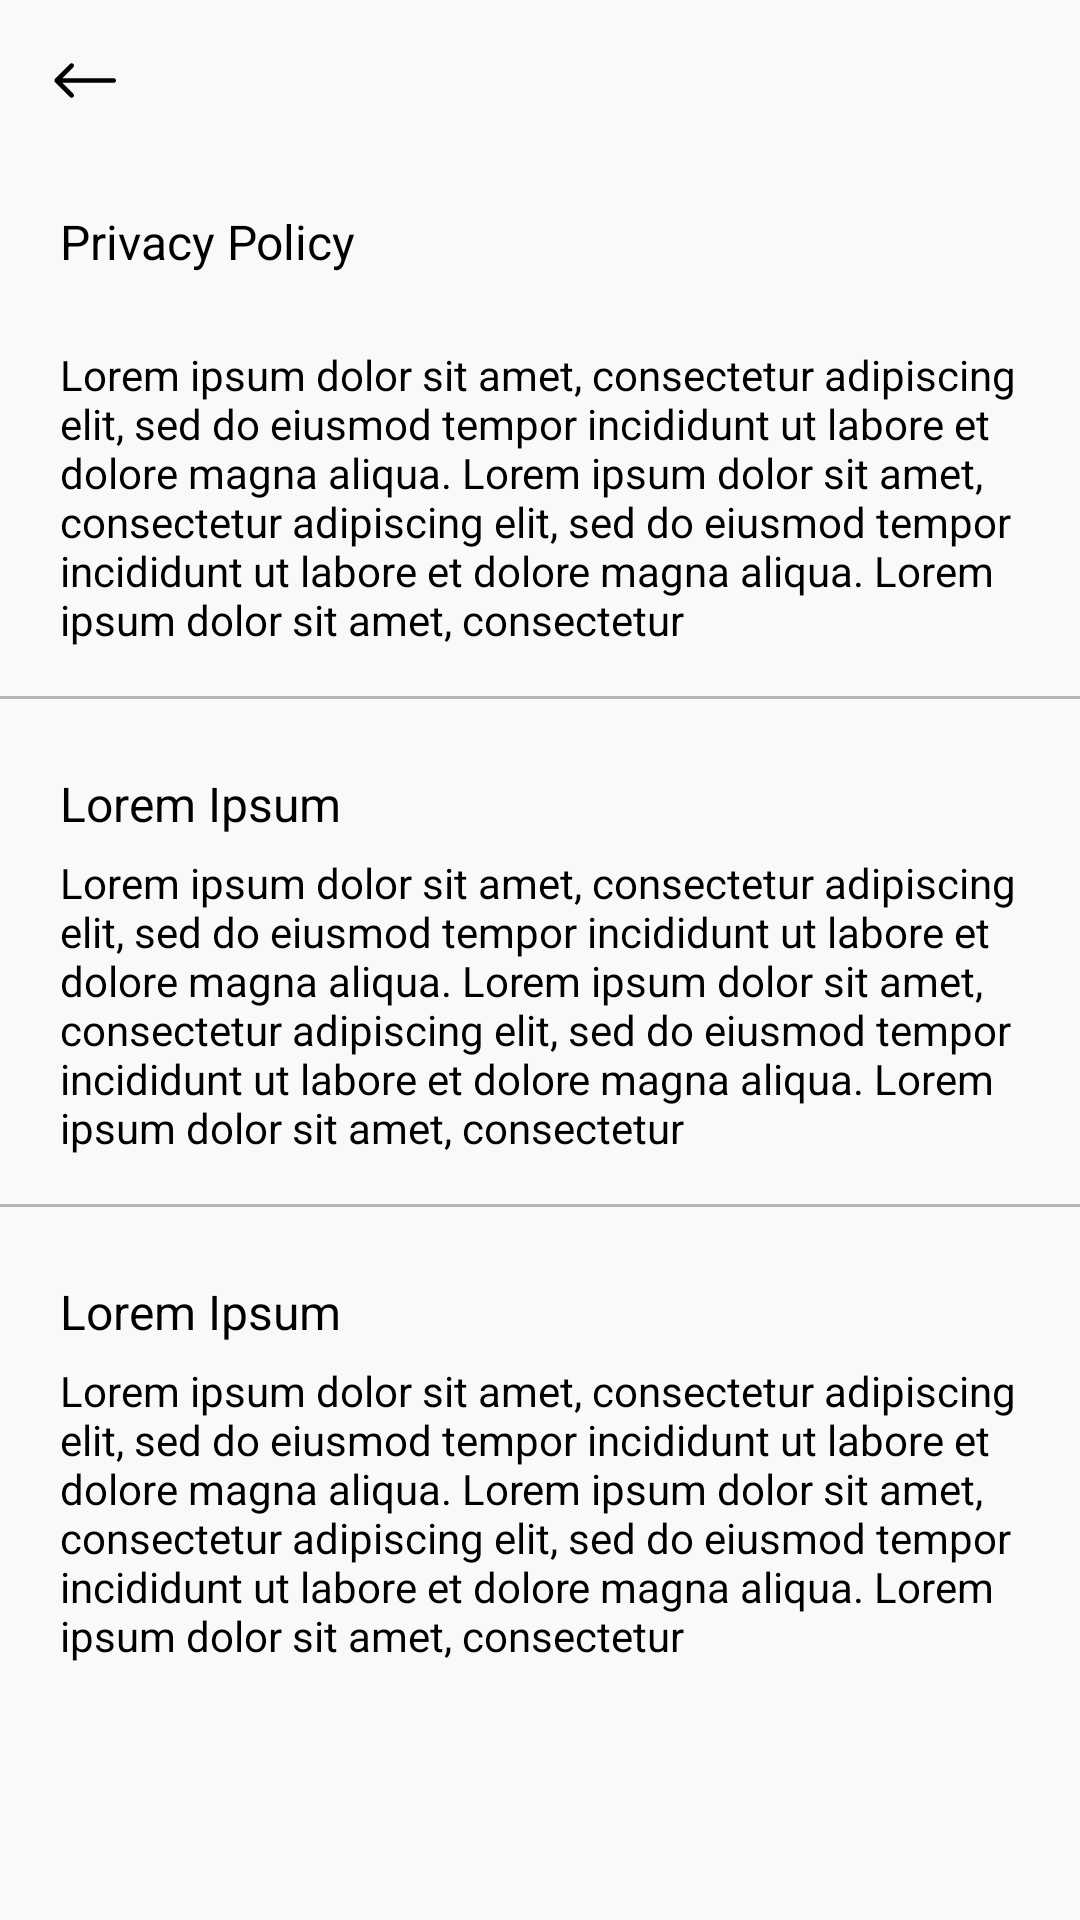

Locate icon controls on the screen. Image size 1080 × 1920, boxes as (left=x1, top=y1, right=x2, bottom=y2).
back: (left=54, top=63, right=116, bottom=98)
